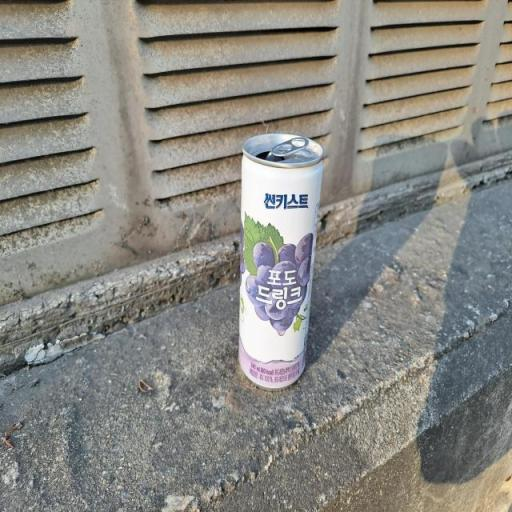metal: (220, 105, 346, 406)
